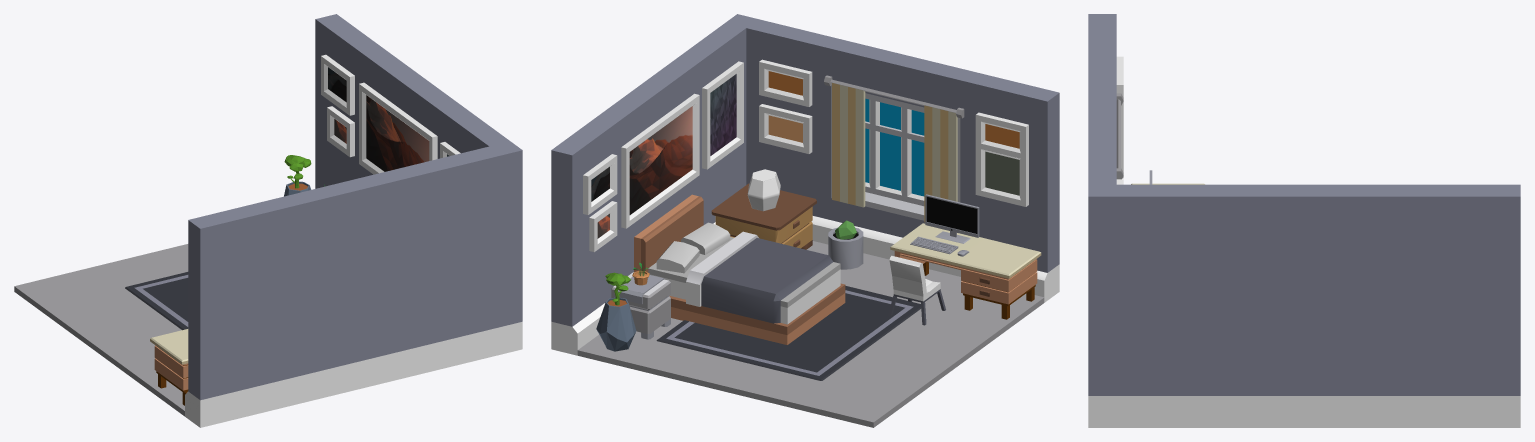
The model's file is chambre.glb.
3 renders of one model, left to right at view 1: azimuth 30°, elevation 25°; view 2: azimuth 150°, elevation 25°; view 3: azimuth 270°, elevation 25°, orthographic. The views are drawn at different scales.
Parts seen in each view (by area): view 1: tst1_10, tst4_1, tst17_13, tst14_9, tst2_11; view 2: tst1_10, tst4_1, tst3_0, tst17_13, tst9_4, tst8_3, tst14_9, tst5_12, tst15_15, tst10_5, tst2_11, tst21_17 (+3 smaller); view 3: tst1_10, tst4_1, tst9_4.
Boxes of the visible parts, left/top/right/bottom form: tst1_10: left=14, top=14, right=522, bottom=427; tst4_1: left=321, top=54, right=460, bottom=174; tst17_13: left=125, top=272, right=188, bottom=330; tst14_9: left=150, top=329, right=188, bottom=405; tst2_11: left=284, top=155, right=311, bottom=196; tst1_10: left=551, top=14, right=1059, bottom=427; tst4_1: left=583, top=59, right=1028, bottom=252; tst3_0: left=634, top=194, right=845, bottom=344; tst17_13: left=656, top=285, right=921, bottom=380; tst9_4: left=824, top=75, right=964, bottom=222; tst8_3: left=831, top=85, right=960, bottom=220; tst14_9: left=890, top=223, right=1041, bottom=319; tst5_12: left=711, top=183, right=816, bottom=249; tst15_15: left=611, top=272, right=670, bottom=339; tst10_5: left=925, top=194, right=979, bottom=243; tst2_11: left=596, top=272, right=636, bottom=351; tst21_17: left=656, top=222, right=730, bottom=273; tst1_10: left=1088, top=14, right=1520, bottom=427; tst4_1: left=1116, top=56, right=1123, bottom=184; tst9_4: left=1116, top=93, right=1123, bottom=179.
Size of the model in its own units: 30.5 by 18 by 30.5.
Materials: 49 (2 with a texture image).
